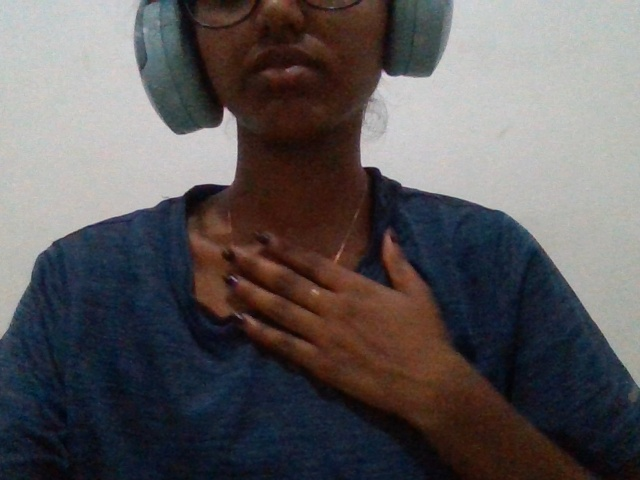Please: (160, 163, 523, 480)
